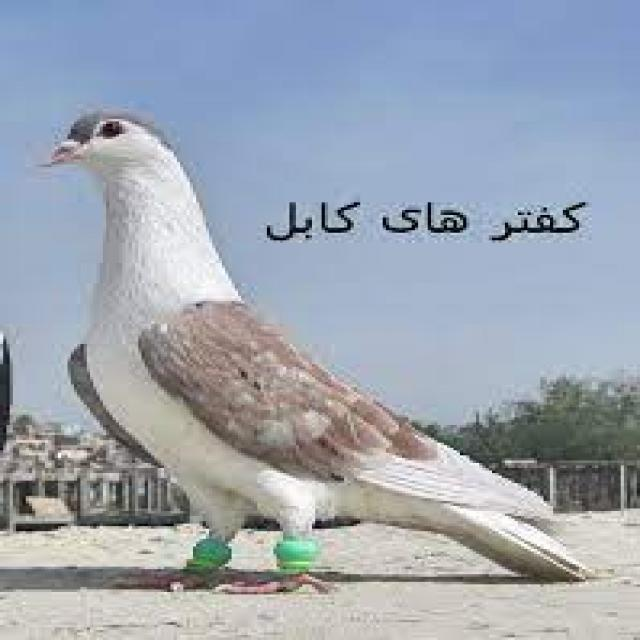bird: (41, 111, 616, 599)
